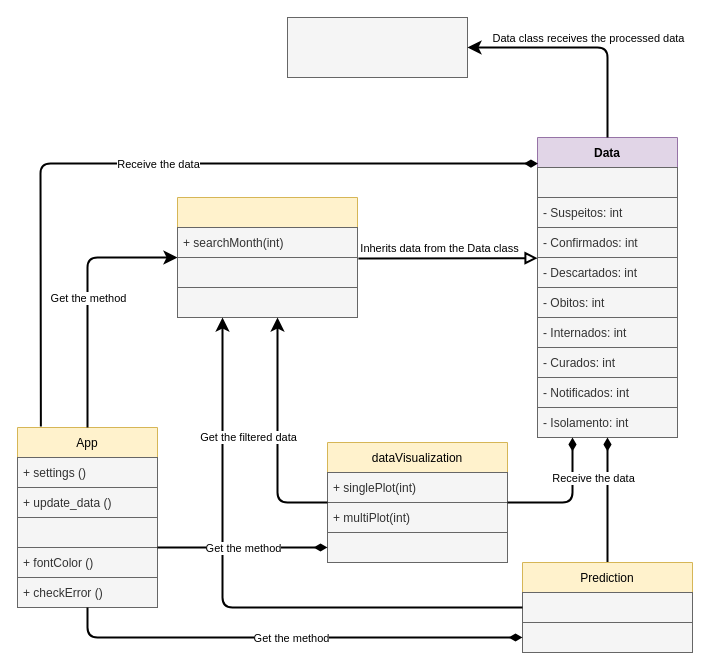
The diagram is 710 pixels wide and 670 high, and some of its shapes have lost their labels. The box of each missing label's shape, as (x1, y1, x2, y2) in pixels:
+ dataPrediction(int): (522, 622, 692, 652)
+ DataProcessing: (286, 16, 468, 78)
+ fatalityRate(int): (176, 286, 358, 318)
+ frames (): (16, 516, 158, 548)
+ generalVisualization(int): (326, 532, 508, 562)
+ polynomialRegression (int): (522, 592, 692, 622)
+ searchYear(int): (176, 256, 358, 288)
- dataHora: string: (536, 166, 678, 198)
dataAnalysis(Data): (176, 196, 358, 318)
